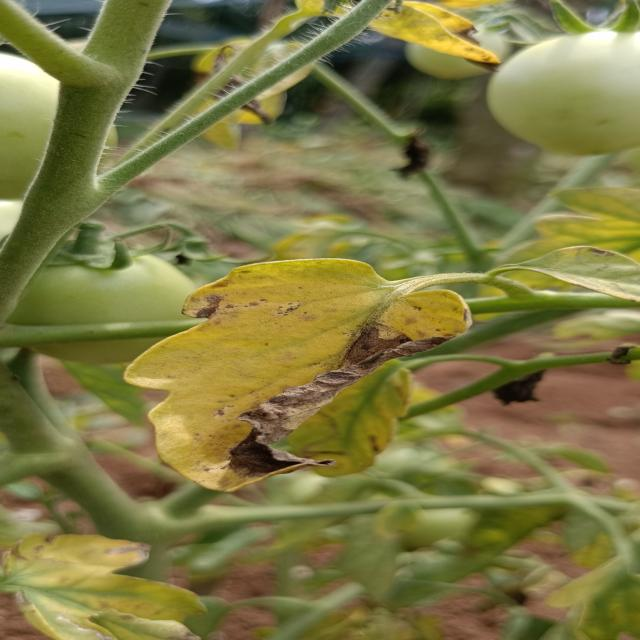tomato_early blight: (126, 244, 470, 498), (0, 532, 217, 640), (264, 352, 436, 478), (280, 0, 542, 78), (196, 38, 306, 139), (509, 243, 640, 300)
